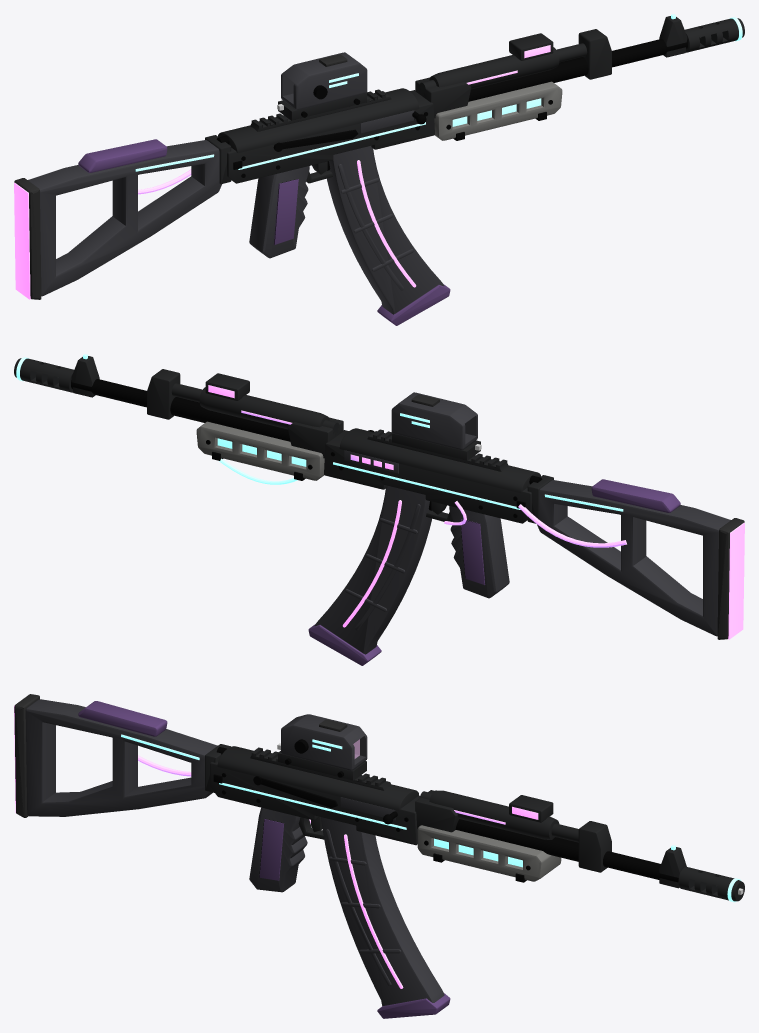
The model's file is VK7_Modelo.glb.
3 renders of one model, top to bottom at view 1: azimuth 30°, elevation 25°; view 2: azimuth 150°, elevation 25°; view 3: azimuth 330°, elevation 25°, orthographic.
Visible parts, largest first — view 1: VK7_Cuerpo, VK7_Cargador, VK7_NeonMagenta, VK7_NeonCian, VK7_CargadorNeon; view 2: VK7_Cuerpo, VK7_Cargador, VK7_NeonMagenta, VK7_NeonCian, VK7_NeonVioleta, VK7_CargadorNeon; view 3: VK7_Cuerpo, VK7_Cargador, VK7_NeonCian, VK7_CargadorNeon.
Part boxes in pixels (x1,y1,x2,y2): VK7_Cuerpo: (14, 16, 744, 299); VK7_Cargador: (327, 146, 450, 325); VK7_NeonMagenta: (14, 45, 550, 299); VK7_NeonCian: (135, 14, 742, 171); VK7_CargadorNeon: (357, 160, 416, 287); VK7_Cuerpo: (14, 356, 744, 639); VK7_Cargador: (308, 486, 431, 665); VK7_NeonMagenta: (208, 385, 744, 639); VK7_NeonCian: (16, 354, 623, 511); VK7_NeonVioleta: (241, 410, 626, 547); VK7_CargadorNeon: (342, 500, 401, 627); VK7_Cuerpo: (14, 694, 744, 901); VK7_Cargador: (321, 817, 450, 1018); VK7_NeonCian: (121, 734, 741, 902); VK7_CargadorNeon: (344, 834, 403, 988).
Bounding box in the file's own units: 0.8775 × 0.3208 × 0.0665.
5 materials, 1 textured.
